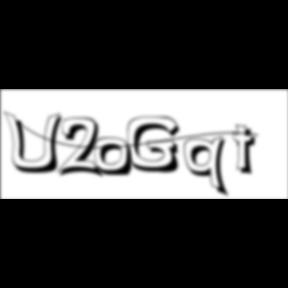2: (58, 117, 108, 181)
G: (127, 116, 186, 176)
U: (3, 110, 68, 176)
o: (94, 137, 136, 179)
q: (184, 135, 234, 200)
t: (233, 124, 264, 179)
